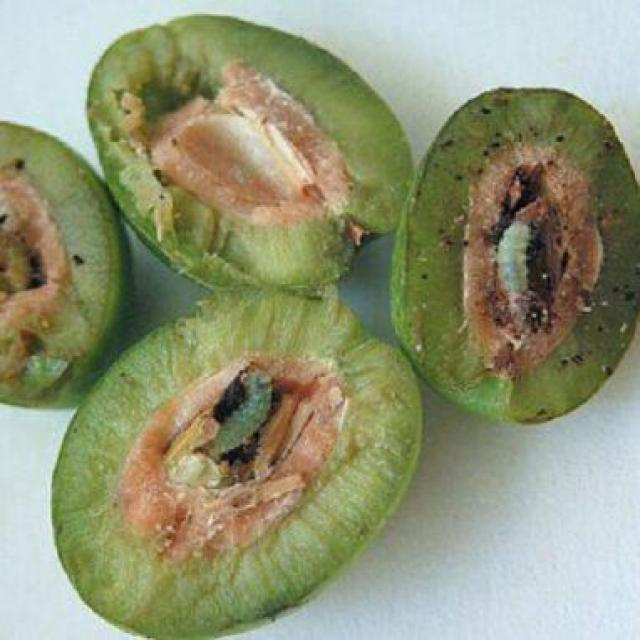Olive Fruit Fly: (57, 288, 410, 638), (87, 16, 412, 295), (414, 89, 638, 421), (0, 121, 129, 407)
